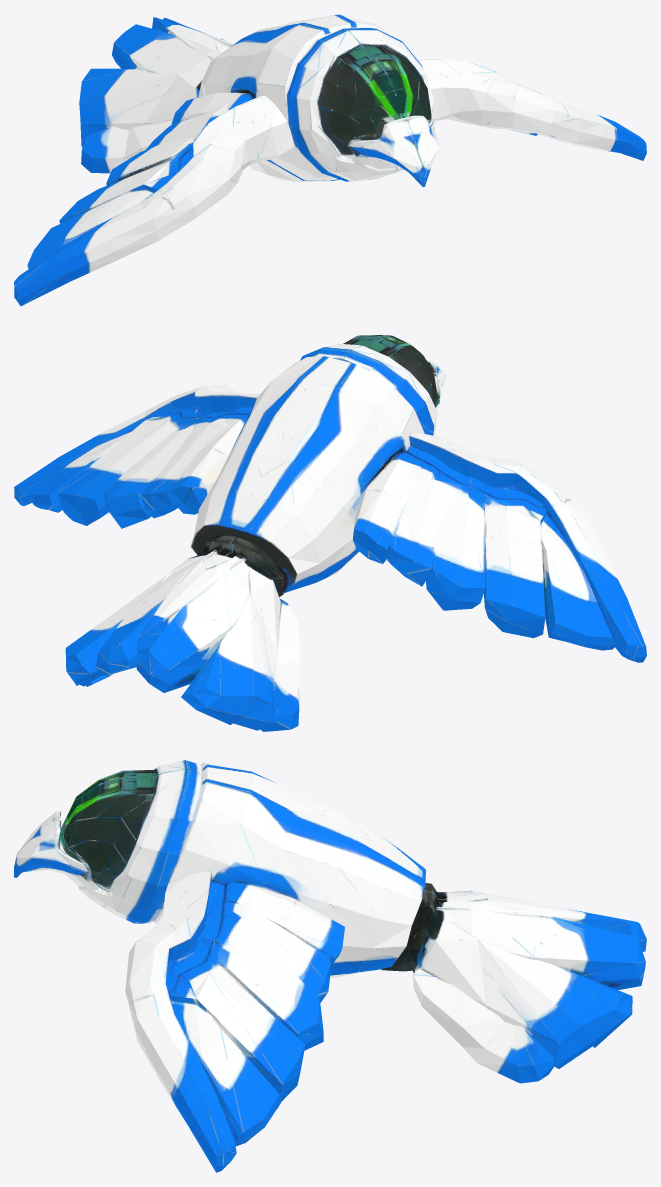
File: dove2.glb
The picture shows the model from 3 angles, top to bottom: view 1: azimuth 30°, elevation 25°; view 2: azimuth 150°, elevation 25°; view 3: azimuth 270°, elevation 25°; orthographic projection. The views are drawn at different scales.
Size of the model in its own units: 2 by 0.7277 by 1.6.
Materials: 1 (1 with a texture image).
